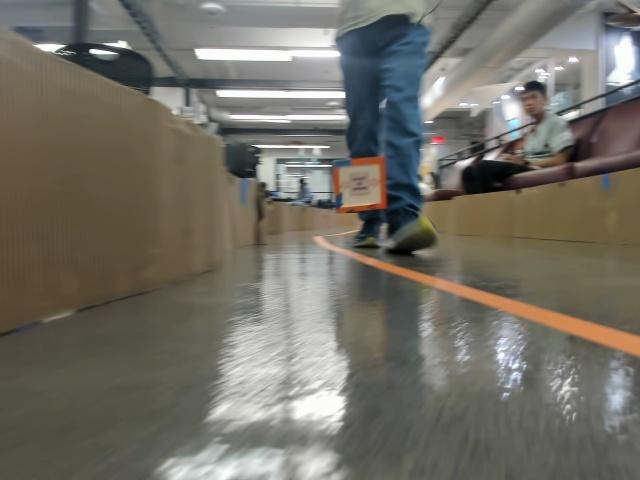Do Not Go Around: (340, 174, 376, 197)
